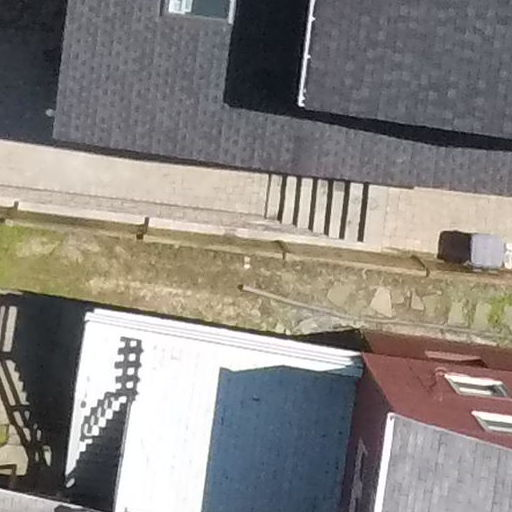gutter: (231, 268, 512, 344)
